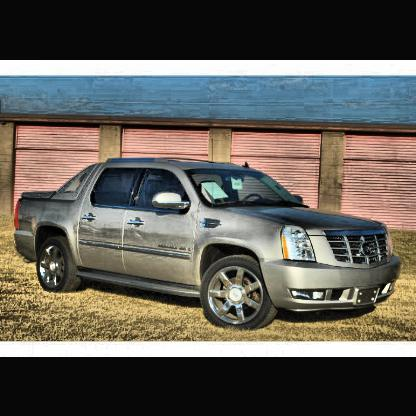Cadillac Escalade EXT Crew Cab 2007: (16, 162, 403, 331)
